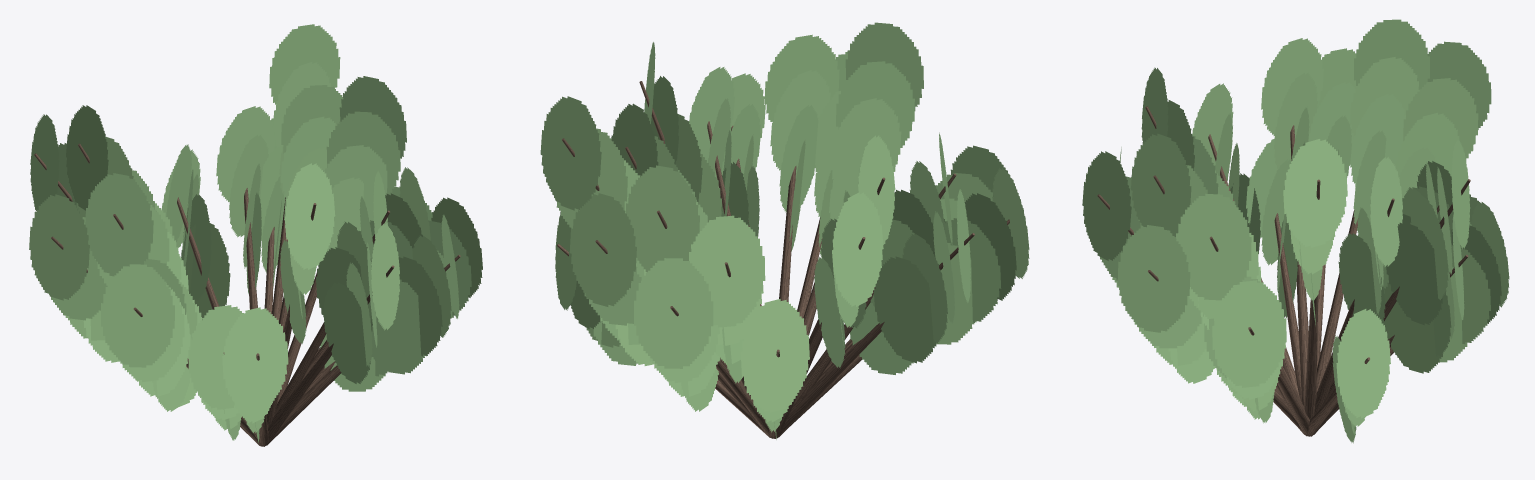
Rendered from shrub03.glb.
3 renders of one model, left to right at view 1: azimuth 30°, elevation 25°; view 2: azimuth 150°, elevation 25°; view 3: azimuth 270°, elevation 25°, orthographic. The views are drawn at different scales.
Parts seen in each view (by area): view 1: foliage, twigs; view 2: foliage, twigs; view 3: foliage, twigs.
Boxes of the visible parts, left/top/right/bottom form: foliage: left=29, top=24, right=482, bottom=442; twigs: left=34, top=143, right=460, bottom=446; foliage: left=540, top=22, right=1029, bottom=439; twigs: left=557, top=81, right=1009, bottom=438; foliage: left=1082, top=19, right=1509, bottom=443; twigs: left=1097, top=106, right=1470, bottom=436.
Bounding box in the file's own units: 1.33 × 1.05 × 1.22.
Materials: 2 (2 with a texture image).
